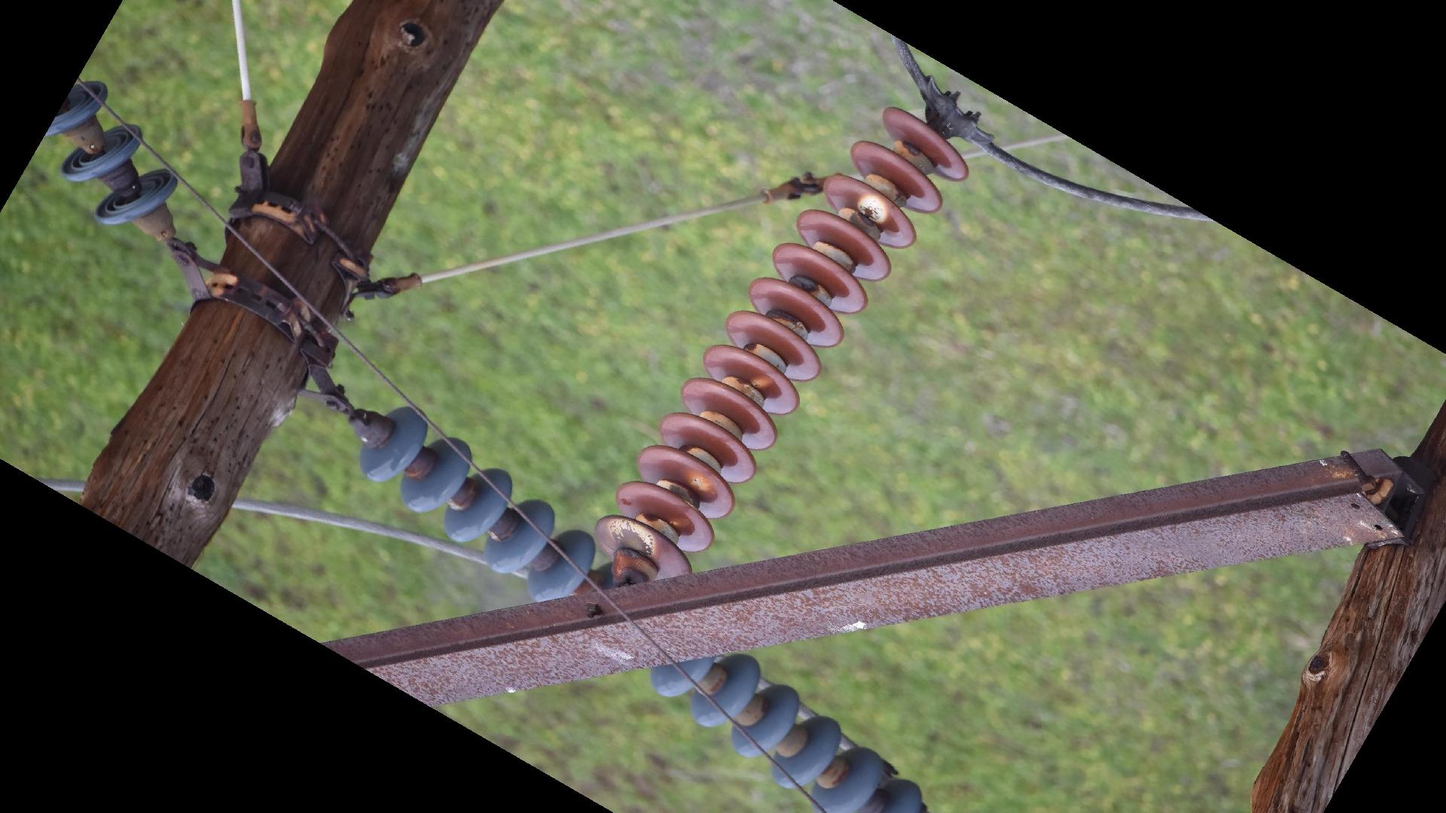insulator: (595, 98, 975, 583), (352, 403, 600, 607), (643, 650, 933, 813), (35, 72, 183, 236)
insulator_flashover: (605, 516, 657, 559), (856, 193, 891, 227), (686, 467, 715, 495), (749, 373, 775, 390)
